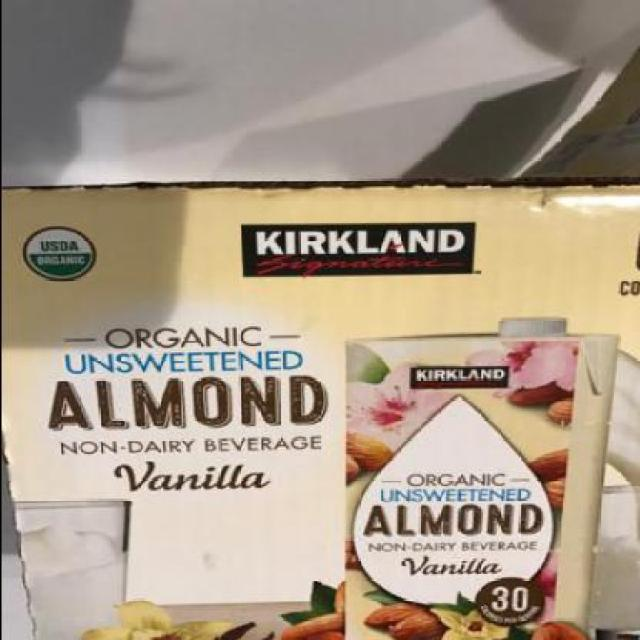CARDBOARD: (1, 178, 638, 638), (1, 180, 638, 638), (514, 39, 638, 183), (512, 48, 638, 180)
